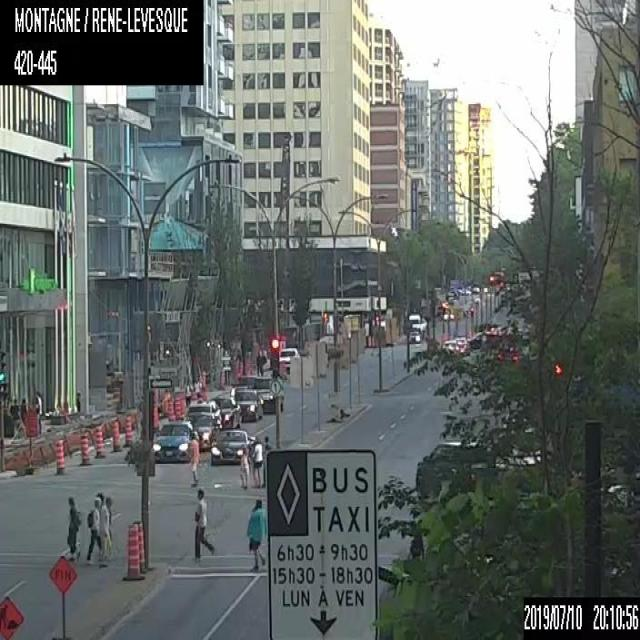construction: (50, 554, 77, 638), (122, 520, 144, 581), (130, 519, 148, 573), (0, 594, 22, 638), (56, 438, 64, 473), (81, 434, 88, 466), (112, 418, 119, 450), (152, 402, 160, 429), (95, 426, 101, 458), (126, 412, 132, 444), (174, 392, 181, 419), (167, 400, 173, 420), (0, 630, 6, 638)
pedestrian: (192, 485, 214, 560), (244, 496, 266, 569), (85, 491, 102, 565), (64, 494, 80, 558), (99, 493, 114, 561), (188, 430, 202, 487), (239, 436, 250, 488), (250, 434, 261, 486), (34, 391, 42, 437), (20, 399, 28, 433), (9, 397, 17, 431), (255, 349, 262, 376), (364, 318, 369, 346), (75, 391, 81, 414)
vehicle: (414, 439, 487, 497), (152, 419, 194, 465), (186, 411, 223, 449), (210, 429, 247, 466), (204, 395, 240, 428), (229, 389, 264, 421), (253, 376, 283, 412), (187, 399, 220, 427), (278, 346, 301, 371), (407, 312, 427, 333), (453, 335, 470, 356), (441, 339, 458, 356), (466, 334, 484, 348), (406, 329, 420, 342)
